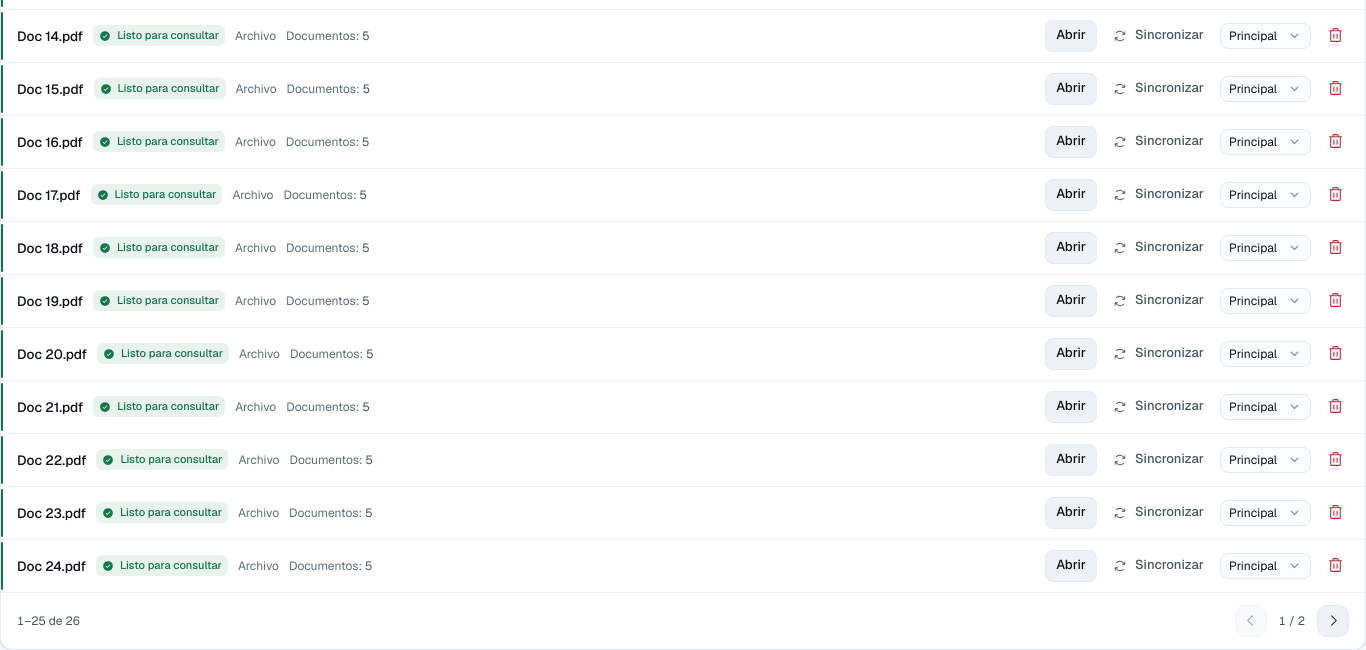
Scenario: KnowledgeSourcesPage › pagina de a 25 fuentes
The width and height of the screenshot is (1366, 650).
(page scrolled)
Expected: the list item with test id "source-card-src-24" is shown, [1,540,1365,592]
Click the button named "Página siguiente" at (1333, 621), box [1317,605,1349,637]
(page scrolled)
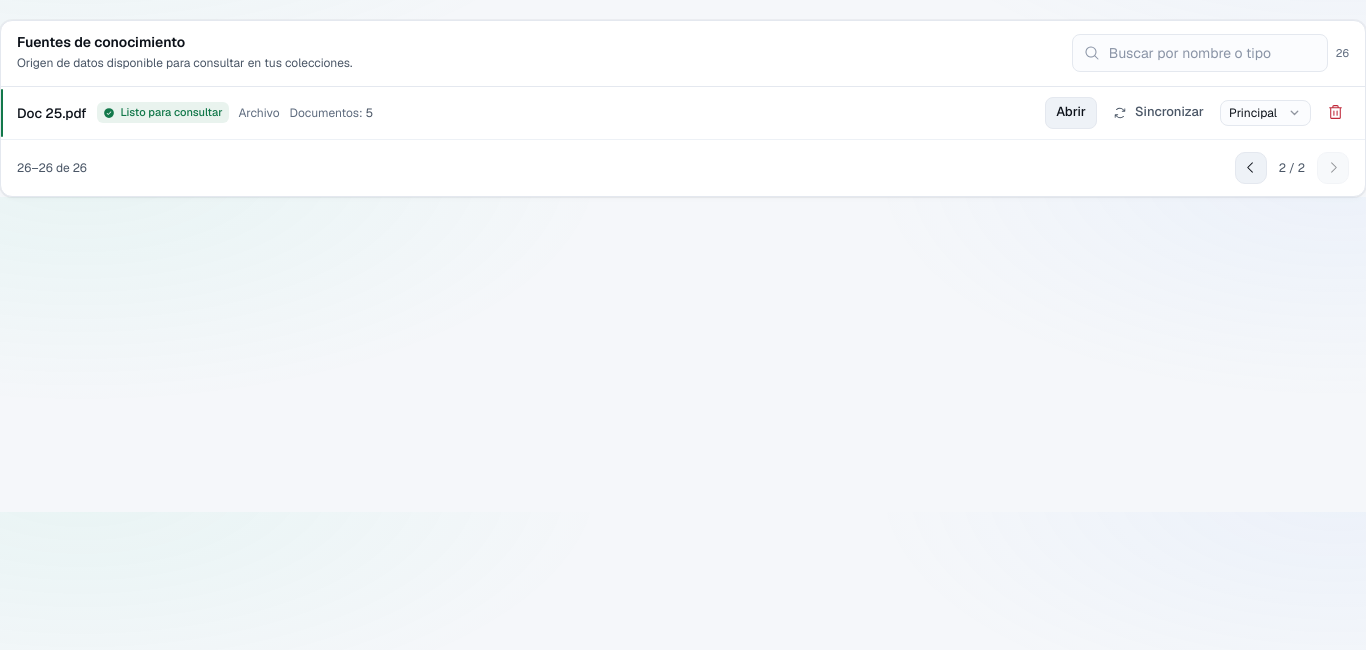
Now the list item with test id "source-card-src-25" is shown, box [1,87,1365,139]
